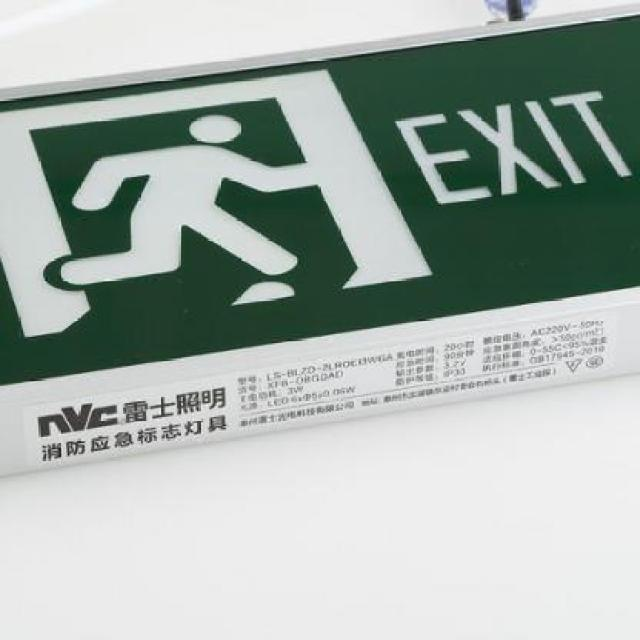exit_sign: (3, 23, 639, 392)
